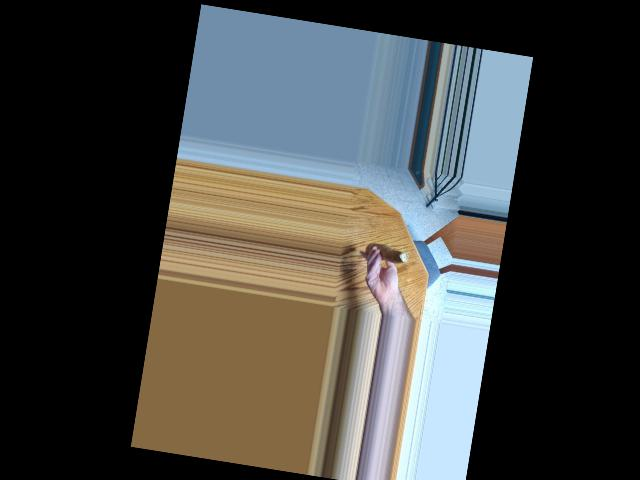sweet_potato: (368, 240, 408, 269)
